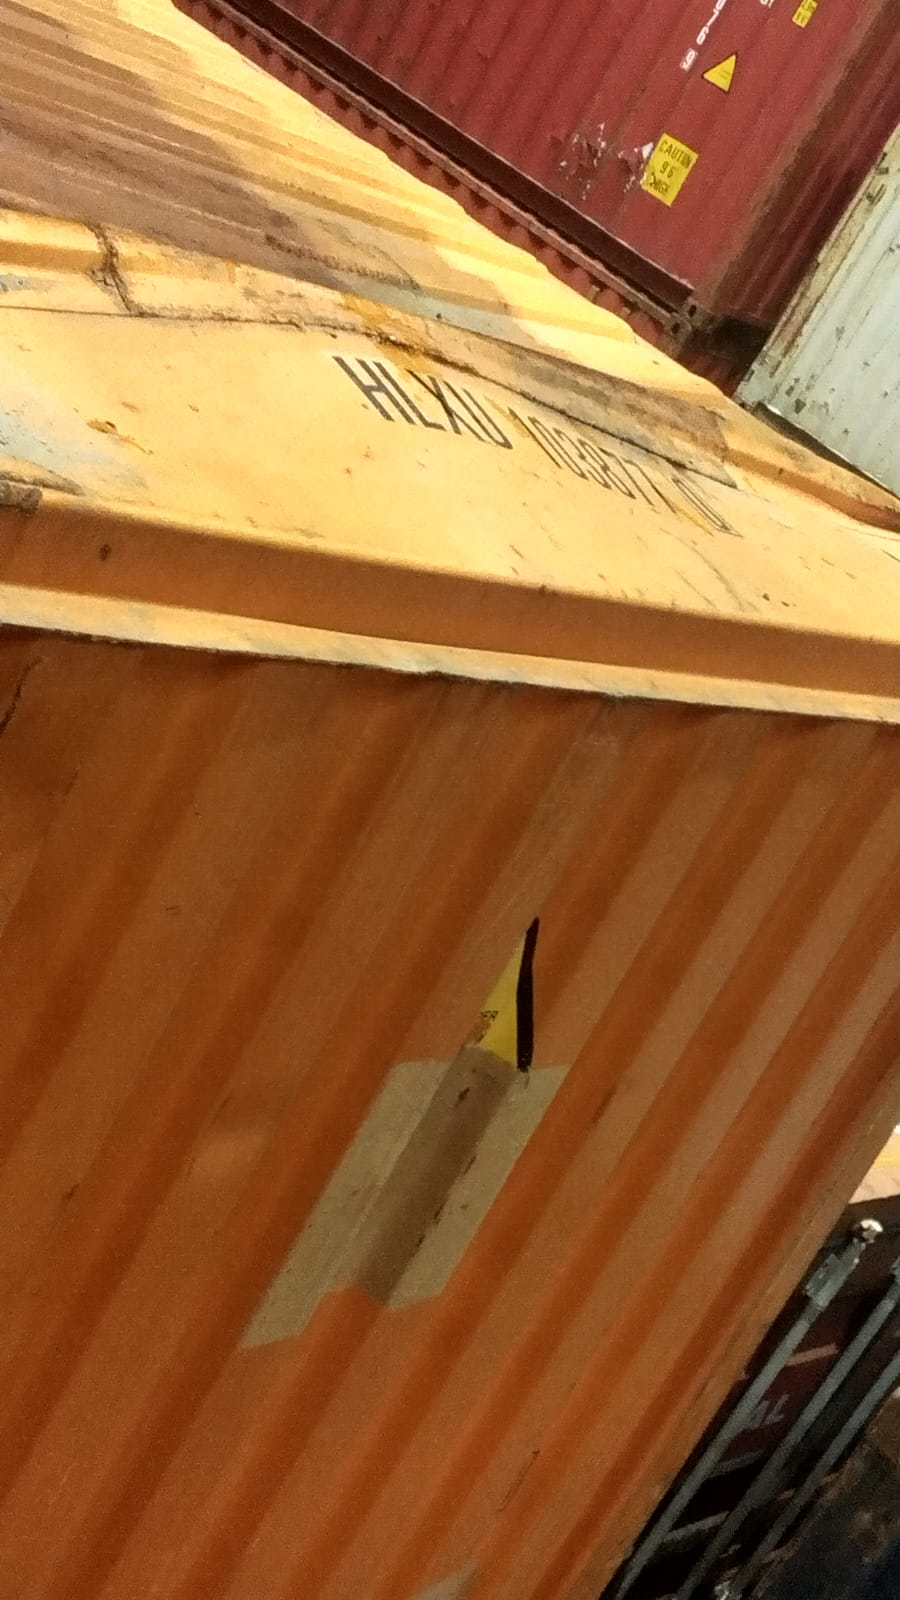bulged: (119, 186, 751, 613)
cut: (456, 893, 580, 1123)
